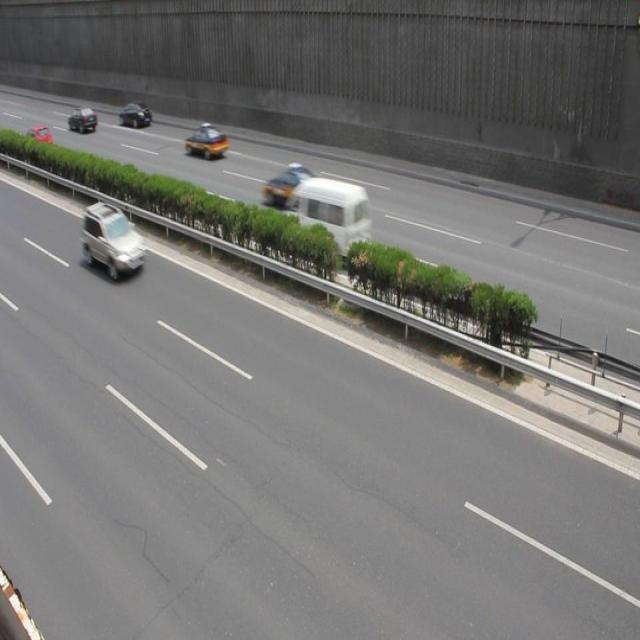car: (82, 201, 147, 281), (261, 163, 332, 215), (184, 122, 229, 160), (23, 122, 56, 154), (67, 104, 99, 135), (119, 102, 152, 130)
truck: (277, 179, 371, 265)
